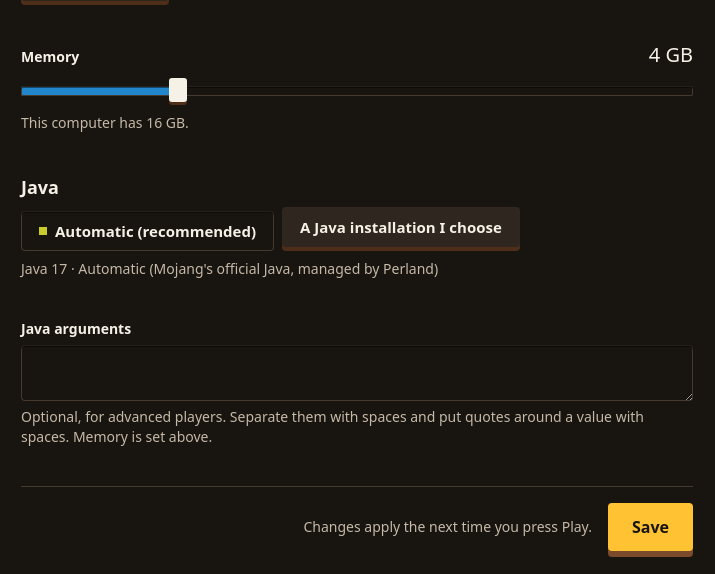
Scenario: saves the Java arguments as typed
The image size is (715, 574).
(page scrolled)
Click the text box labelled "Java arguments" at (357, 373), box [21,345,693,401]
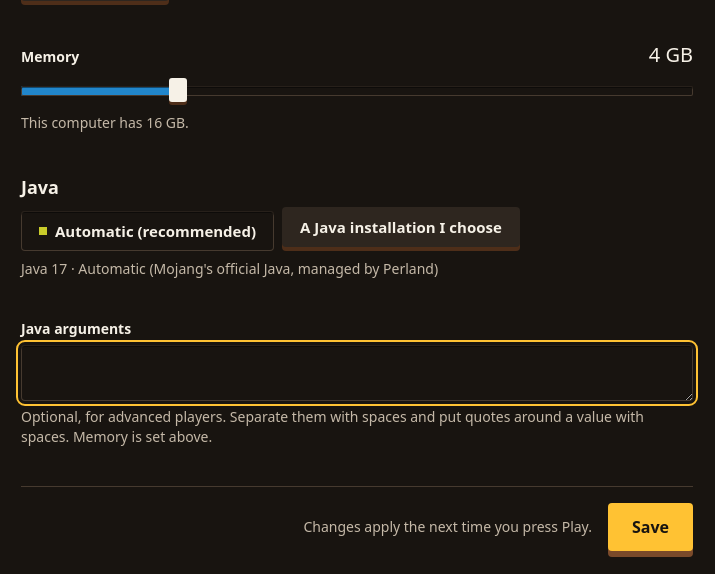
Type keys "-XX:+UseG1GC -Dx=\"a b\""
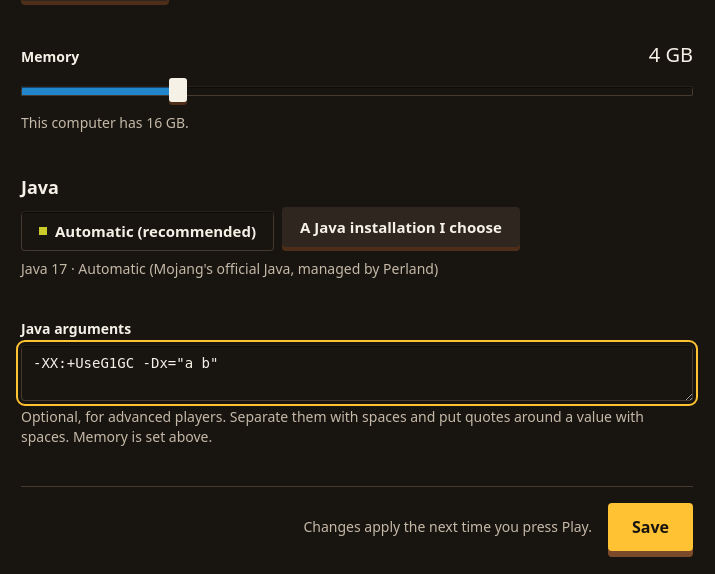
Click the button "Save" at (650, 527), box [608,503,693,551]
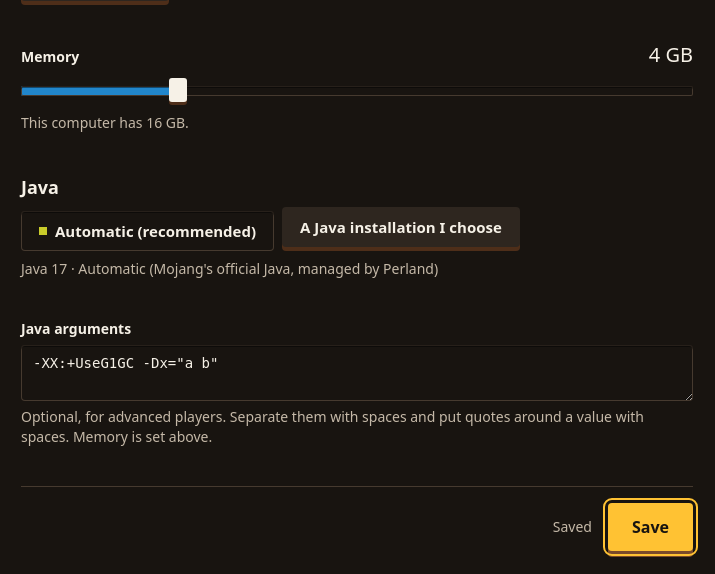
Expected: the text "Saved" is shown, [553,517,592,537]
